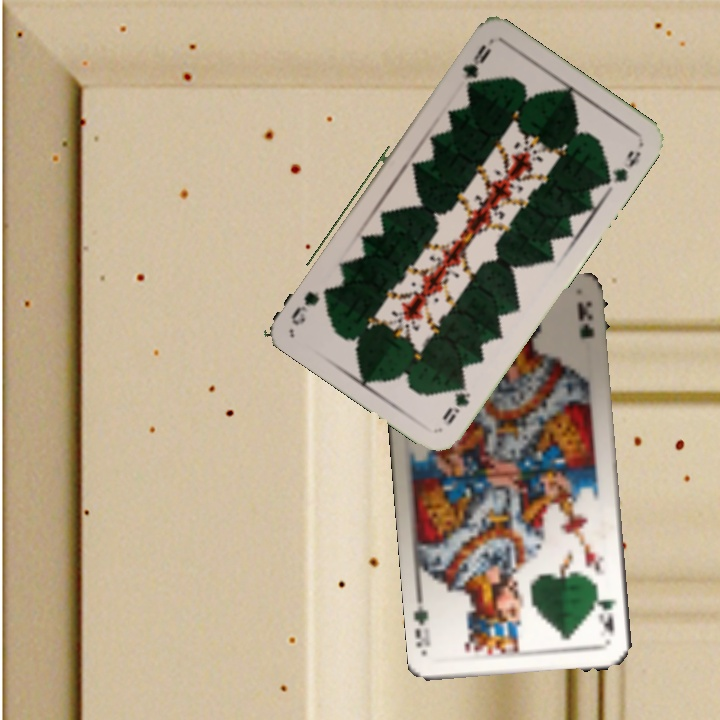G9: (438, 375, 474, 427), (458, 40, 495, 90)
GK: (596, 594, 619, 639)
